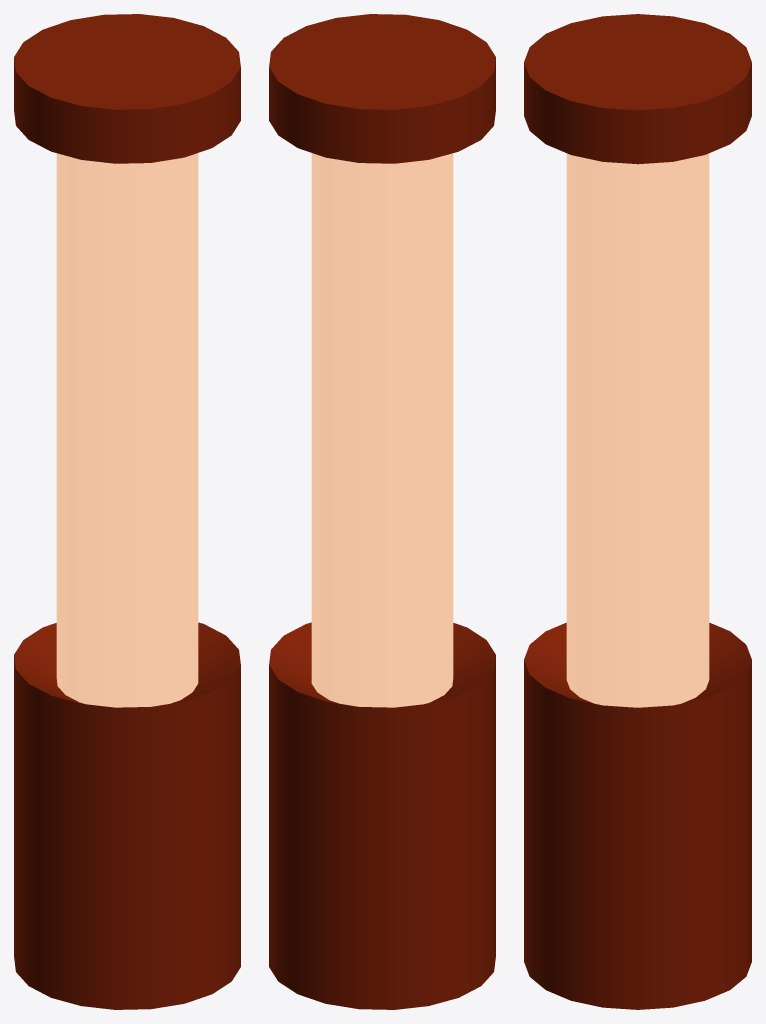
Rendered from Electric Torch.fbx.
3 renders of one model, left to right at view 1: azimuth 30°, elevation 25°; view 2: azimuth 150°, elevation 25°; view 3: azimuth 270°, elevation 25°, orthographic.
Parts seen in each view (by area): view 1: pCylinder1; view 2: pCylinder1; view 3: pCylinder1.
Boxes of the visible parts, x1=… form: pCylinder1: x1=14, y1=14, x2=240, y2=1009; pCylinder1: x1=269, y1=14, x2=495, y2=1009; pCylinder1: x1=524, y1=14, x2=751, y2=1009.
Bounding box in the file's own units: 0.4593 × 2 × 0.4593.
